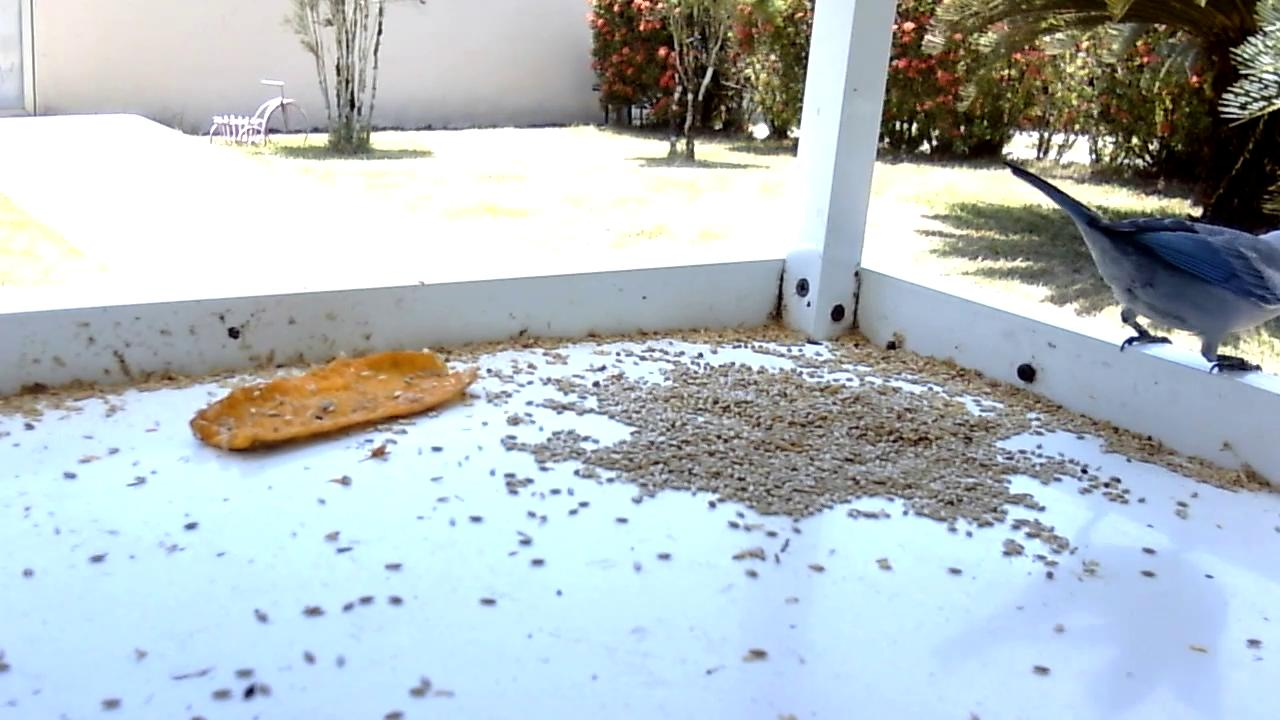sanhaco_da_amazonia: (1006, 161, 1280, 377)
